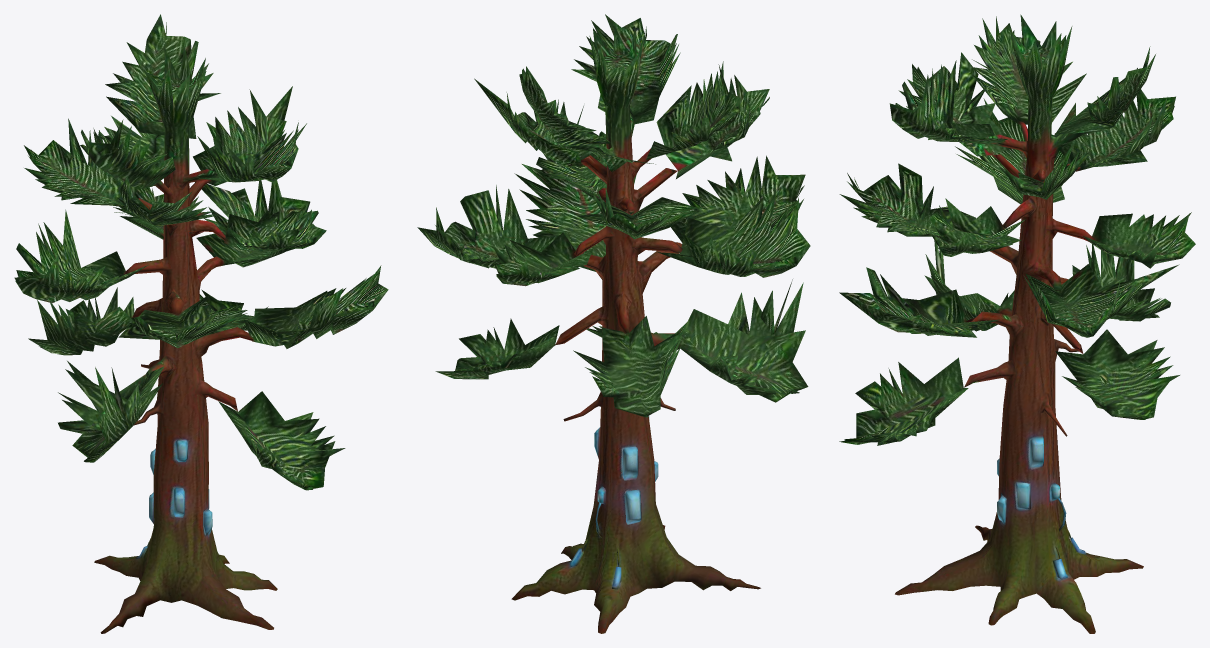
Rendered from khasi_pine.glb.
The picture shows the model from 3 angles, left to right: view 1: azimuth 30°, elevation 25°; view 2: azimuth 150°, elevation 25°; view 3: azimuth 270°, elevation 25°; orthographic projection. The views are drawn at different scales.
Visible parts, largest first — view 1: Body; view 2: Body; view 3: Body.
Boxes of the visible parts, x1,y1,x2,y2 form: Body: (14,14,388,633); Body: (417,14,810,633); Body: (839,14,1195,633).
Size of the model in its own units: 7.77 by 12 by 6.79.
Materials: 1 (1 with a texture image).
